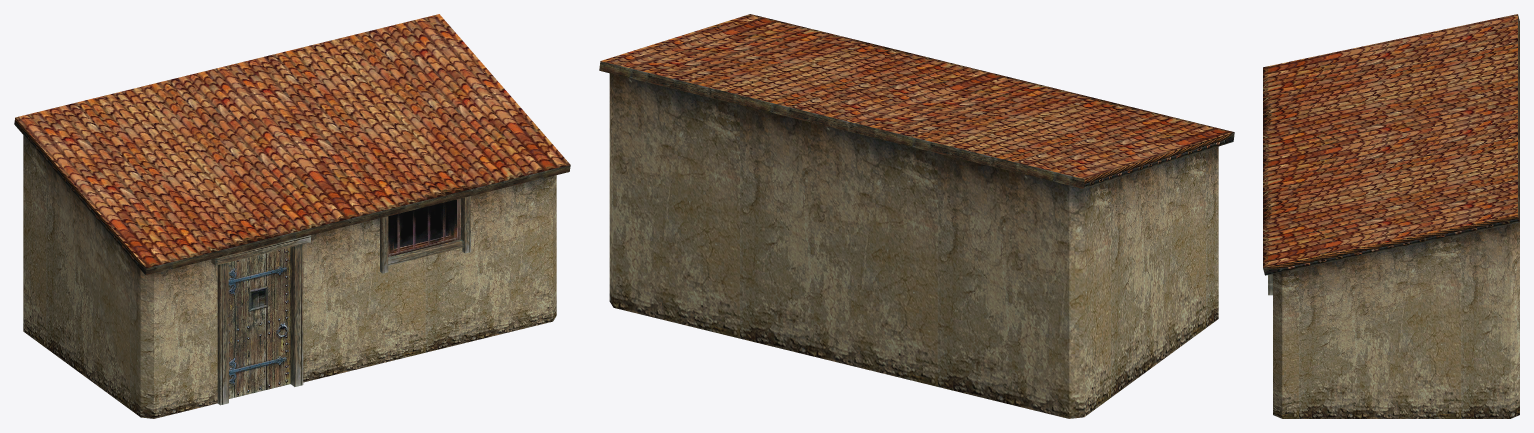
Rendered from mhouse9.glb.
3 renders of one model, left to right at view 1: azimuth 30°, elevation 25°; view 2: azimuth 150°, elevation 25°; view 3: azimuth 270°, elevation 25°, orthographic. The views are drawn at different scales.
Parts seen in each view (by area): view 1: mhouse9; view 2: mhouse9; view 3: mhouse9.
Boxes of the visible parts, bbox=[...] form: mhouse9: bbox=[14, 14, 570, 418]; mhouse9: bbox=[599, 14, 1234, 418]; mhouse9: bbox=[1263, 14, 1519, 418].
Bounding box in the file's own units: 7.71 × 3.69 × 4.17.
7 materials, 7 textured.
